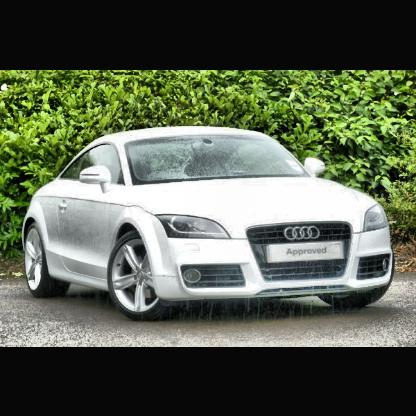Audi TT Hatchback 2011: (23, 128, 395, 322)
